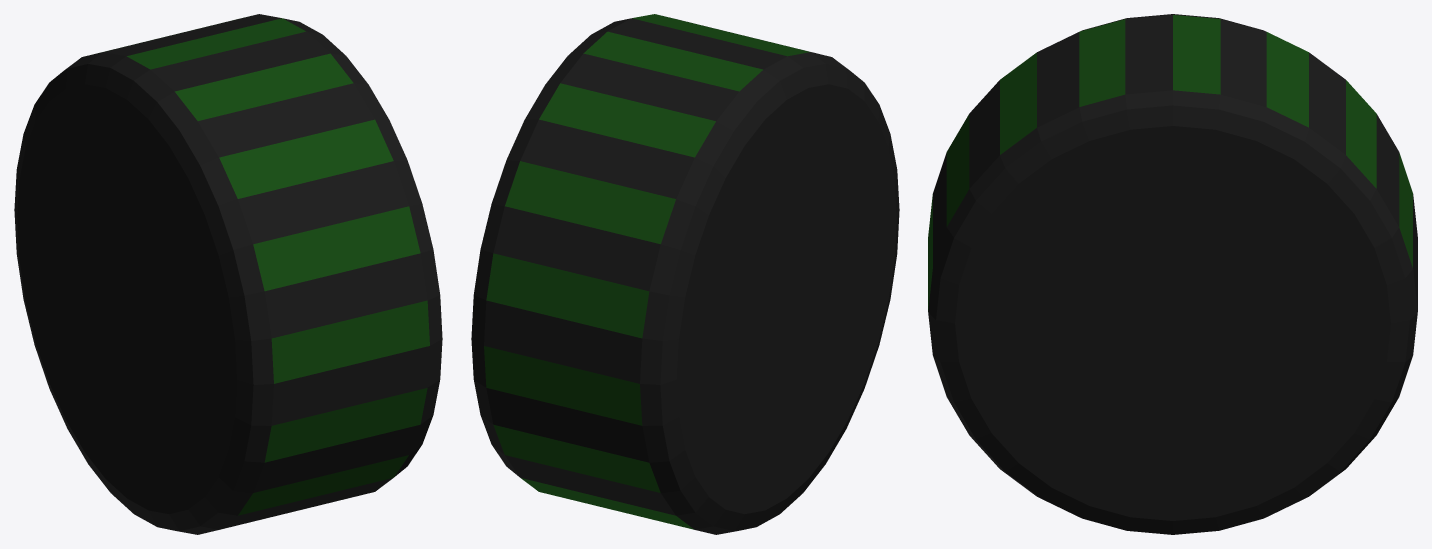
Rendered from bot_wheel_F.gltf.
3 renders of one model, left to right at view 1: azimuth 30°, elevation 25°; view 2: azimuth 150°, elevation 25°; view 3: azimuth 270°, elevation 25°, orthographic.
Parts seen in each view (by area): view 1: Actor.Wheel.Front.Cylinder; view 2: Actor.Wheel.Front.Cylinder; view 3: Actor.Wheel.Front.Cylinder.
Part boxes in pixels (x1,y1,x2,y2): Actor.Wheel.Front.Cylinder: (14,14,442,534); Actor.Wheel.Front.Cylinder: (471,14,899,534); Actor.Wheel.Front.Cylinder: (928,14,1417,534).
Size of what is drawn, in the model's own units: 0.2706 by 0.5714 by 0.5714.
